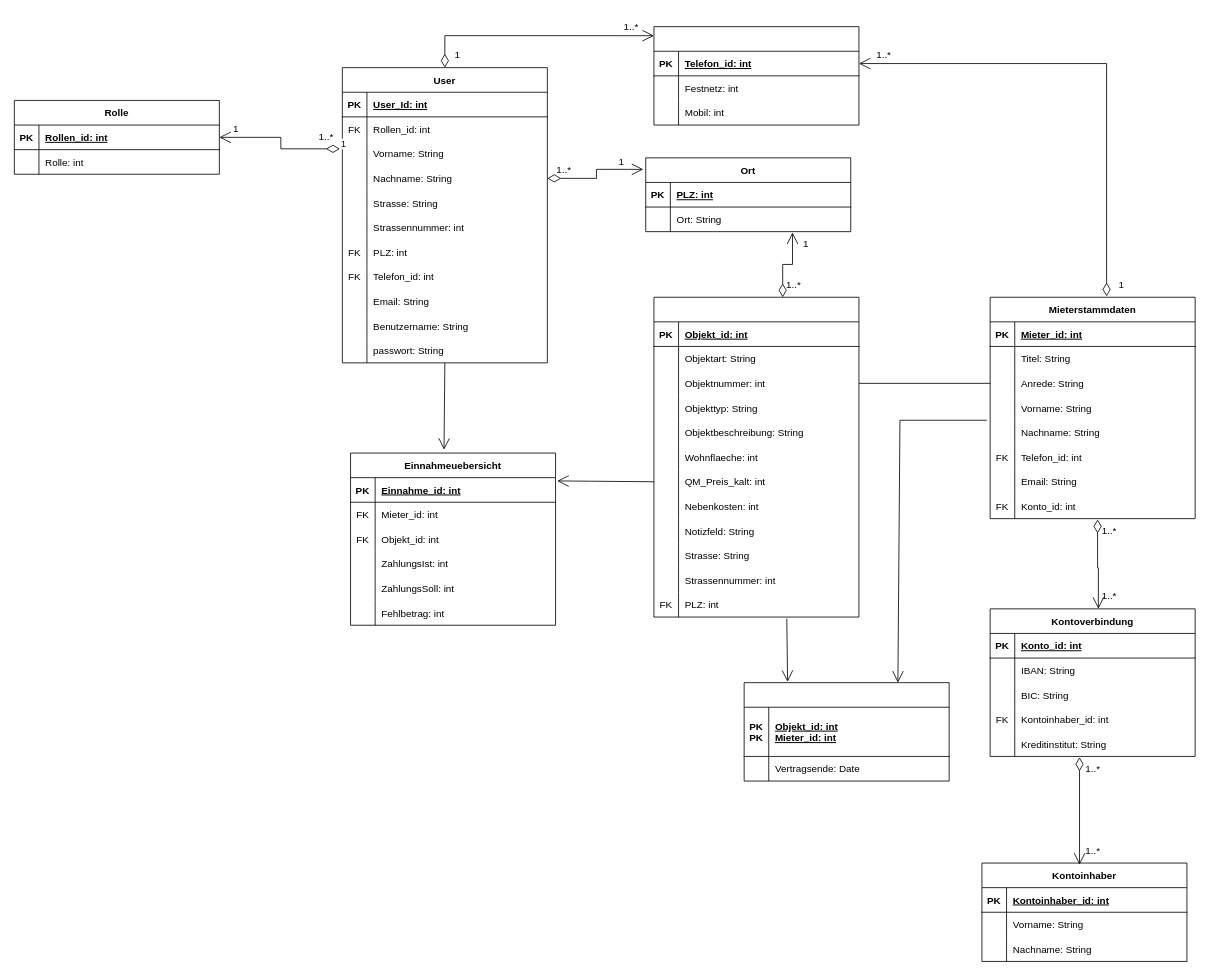
Image size: 1210x976. Some labels were removed from this diagram. The box of each missing label's shape, as (x1, y1, x2, y2) in pixels:
Mietobjekt: (653, 296, 859, 617)
MietobjektMieter: (743, 682, 949, 781)
Telfonnummer: (653, 26, 859, 125)
